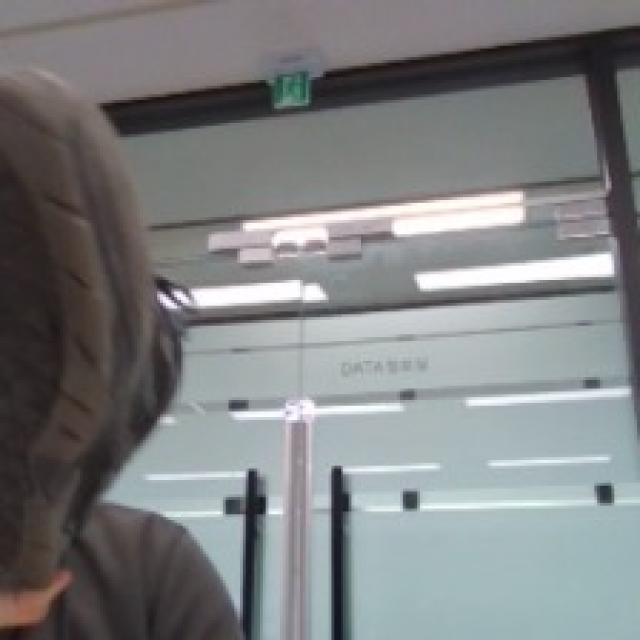shoe: (0, 66, 194, 589)
